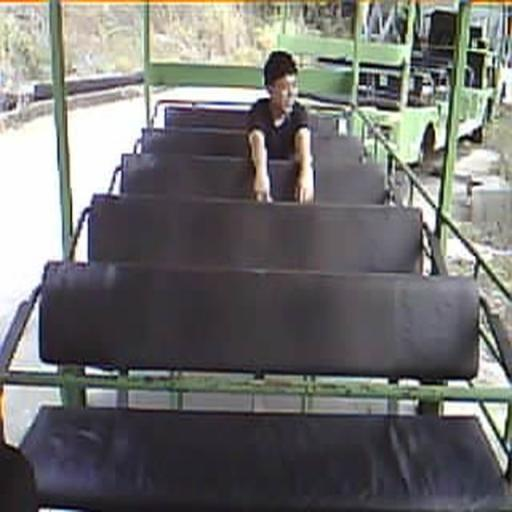persona: (244, 49, 316, 206)
